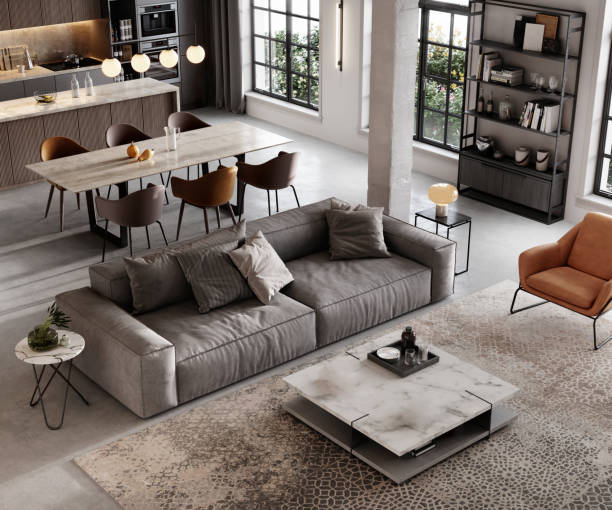chair: (508, 209, 611, 353)
dining table set: (25, 112, 296, 259)
side table: (12, 323, 92, 431), (413, 206, 473, 277)
sofa: (42, 195, 459, 425)
table: (282, 326, 520, 489)
